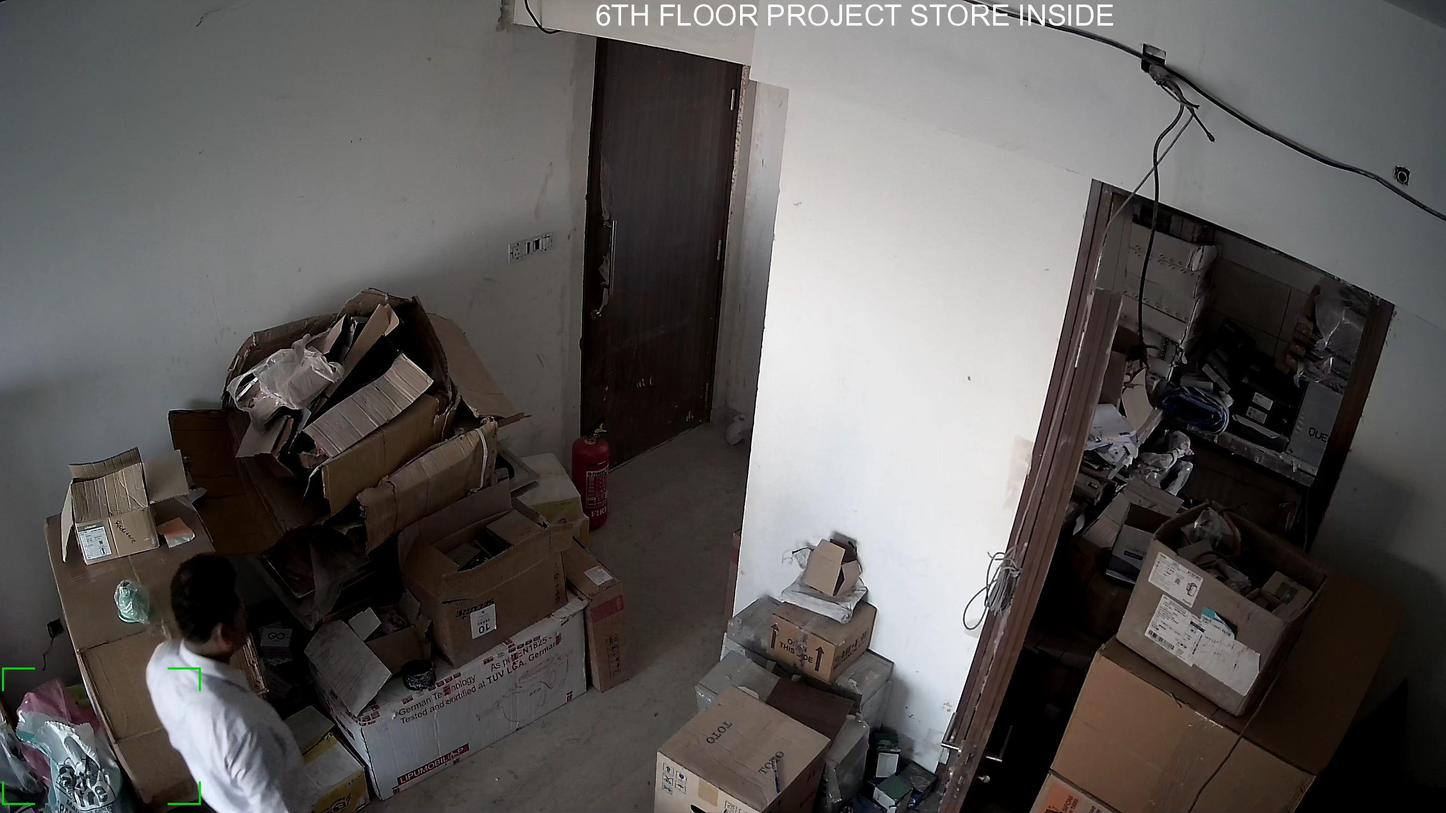Door-Close: (575, 33, 752, 485)
